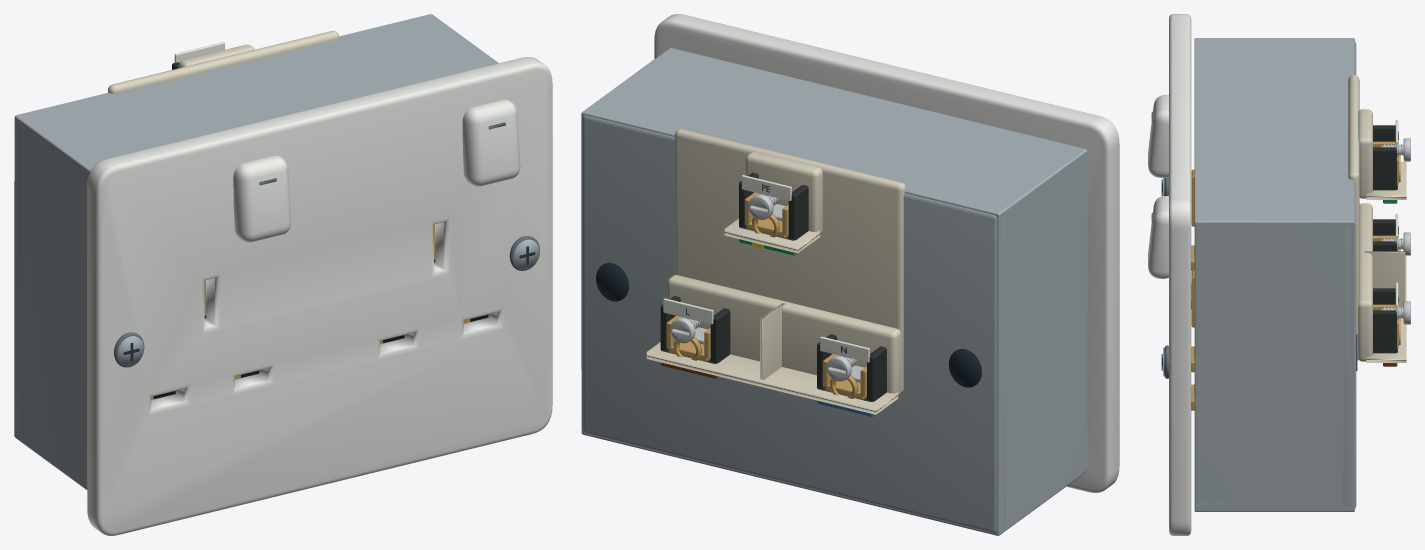
File: socket_default.glb
3 renders of one model, left to right at view 1: azimuth 30°, elevation 25°; view 2: azimuth 150°, elevation 25°; view 3: azimuth 270°, elevation 25°, orthographic. The views are drawn at different scales.
Parts seen in each view (by area): view 1: part:cover, part:body · Original 2a8198d3, motion:rocker, motion:rocker.001, part:terminals · Original 5a609f27, part:cover · Original 2a8198d3; view 2: part:body · Original 2a8198d3, part:terminals · Original 5a609f27, part:cover, part:body · Original a463fd81, detail:terminal-clamp:L · Detail moulded engineering polymer, detail:terminal-clamp:PE · Detail moulded engineering polyme, detail:terminal-clamp:N · Detail moulded engineering polymer, detail:terminal-clamp:PE · Detail machined brass, detail:terminal-clamp:N · Detail machined brass, detail:terminal-clamp:L · Detail machined brass, Moulded terminal legend pad, Moulded terminal legend pad.002 (+4 smaller); view 3: part:body · Original 2a8198d3, part:cover, part:terminals · Original 5a609f27, motion:rocker, motion:rocker.001, detail:terminal-clamp:PE · Detail moulded engineering polyme, detail:terminal-clamp:L · Detail moulded engineering polymer, part:body.001 · Original df732090, detail:terminal-clamp:N · Detail moulded engineering polymer.
Boxes of the visible parts, box(x1,y1,x2,y2) form: part:cover: box(87, 57, 552, 535); part:body · Original 2a8198d3: box(14, 14, 498, 489); motion:rocker: box(233, 155, 290, 242); motion:rocker.001: box(462, 99, 520, 186); part:terminals · Original 5a609f27: box(108, 31, 339, 93); part:cover · Original 2a8198d3: box(118, 239, 539, 366); part:body · Original 2a8198d3: box(581, 48, 1087, 535); part:terminals · Original 5a609f27: box(646, 129, 906, 414); part:cover: box(654, 14, 1119, 492); part:body · Original a463fd81: box(596, 262, 981, 387); detail:terminal-clamp:L · Detail moulded engineering polymer: box(660, 296, 730, 363); detail:terminal-clamp:PE · Detail moulded engineering polyme: box(739, 172, 808, 240); detail:terminal-clamp:N · Detail moulded engineering polymer: box(817, 334, 886, 401); detail:terminal-clamp:PE · Detail machined brass: box(744, 192, 788, 238); detail:terminal-clamp:N · Detail machined brass: box(822, 354, 866, 399); detail:terminal-clamp:L · Detail machined brass: box(666, 315, 710, 361); Moulded terminal legend pad: box(663, 298, 713, 324); Moulded terminal legend pad.002: box(741, 175, 791, 200); part:body · Original 2a8198d3: box(1194, 38, 1356, 511); part:cover: box(1169, 14, 1191, 535); part:terminals · Original 5a609f27: box(1348, 74, 1406, 362); motion:rocker: box(1148, 95, 1168, 177); motion:rocker.001: box(1148, 196, 1168, 278); detail:terminal-clamp:PE · Detail moulded engineering polyme: box(1373, 125, 1397, 190); detail:terminal-clamp:L · Detail moulded engineering polymer: box(1373, 288, 1397, 353); part:body.001 · Original df732090: box(1191, 169, 1194, 410); detail:terminal-clamp:N · Detail moulded engineering polymer: box(1373, 219, 1396, 251).
Size of the model in its own units: 1.06 by 0.823 by 0.5862.
